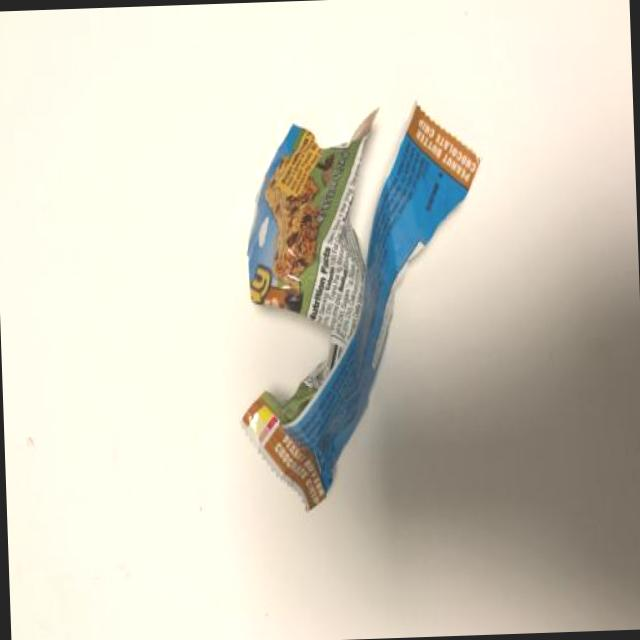Trash: (228, 98, 496, 520)
